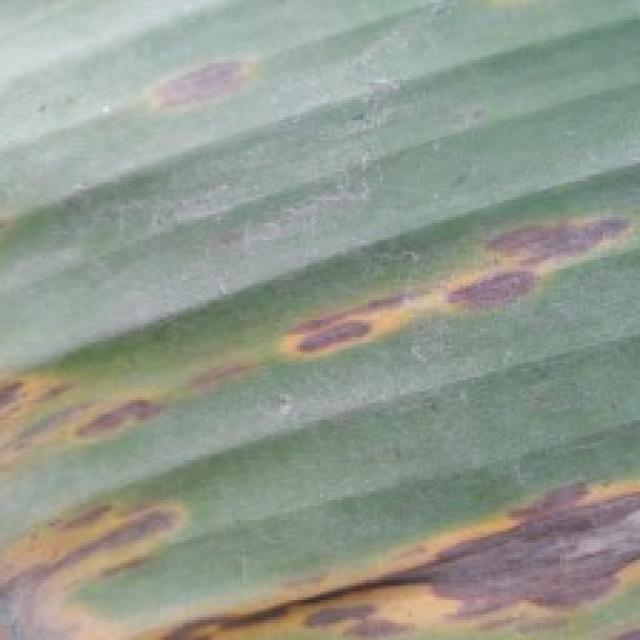Early_leaf_spot: (140, 460, 637, 640), (260, 188, 622, 406), (0, 466, 200, 636), (0, 303, 171, 486), (142, 299, 272, 430), (113, 44, 275, 127)
